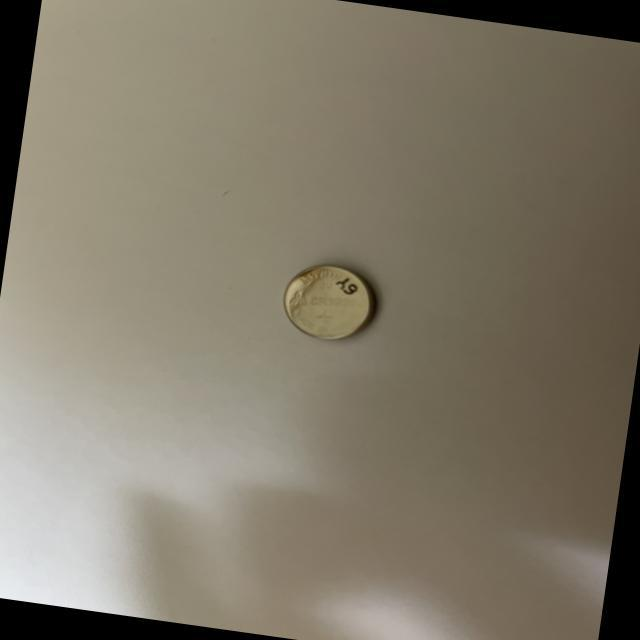COIN: (277, 258, 381, 348)
